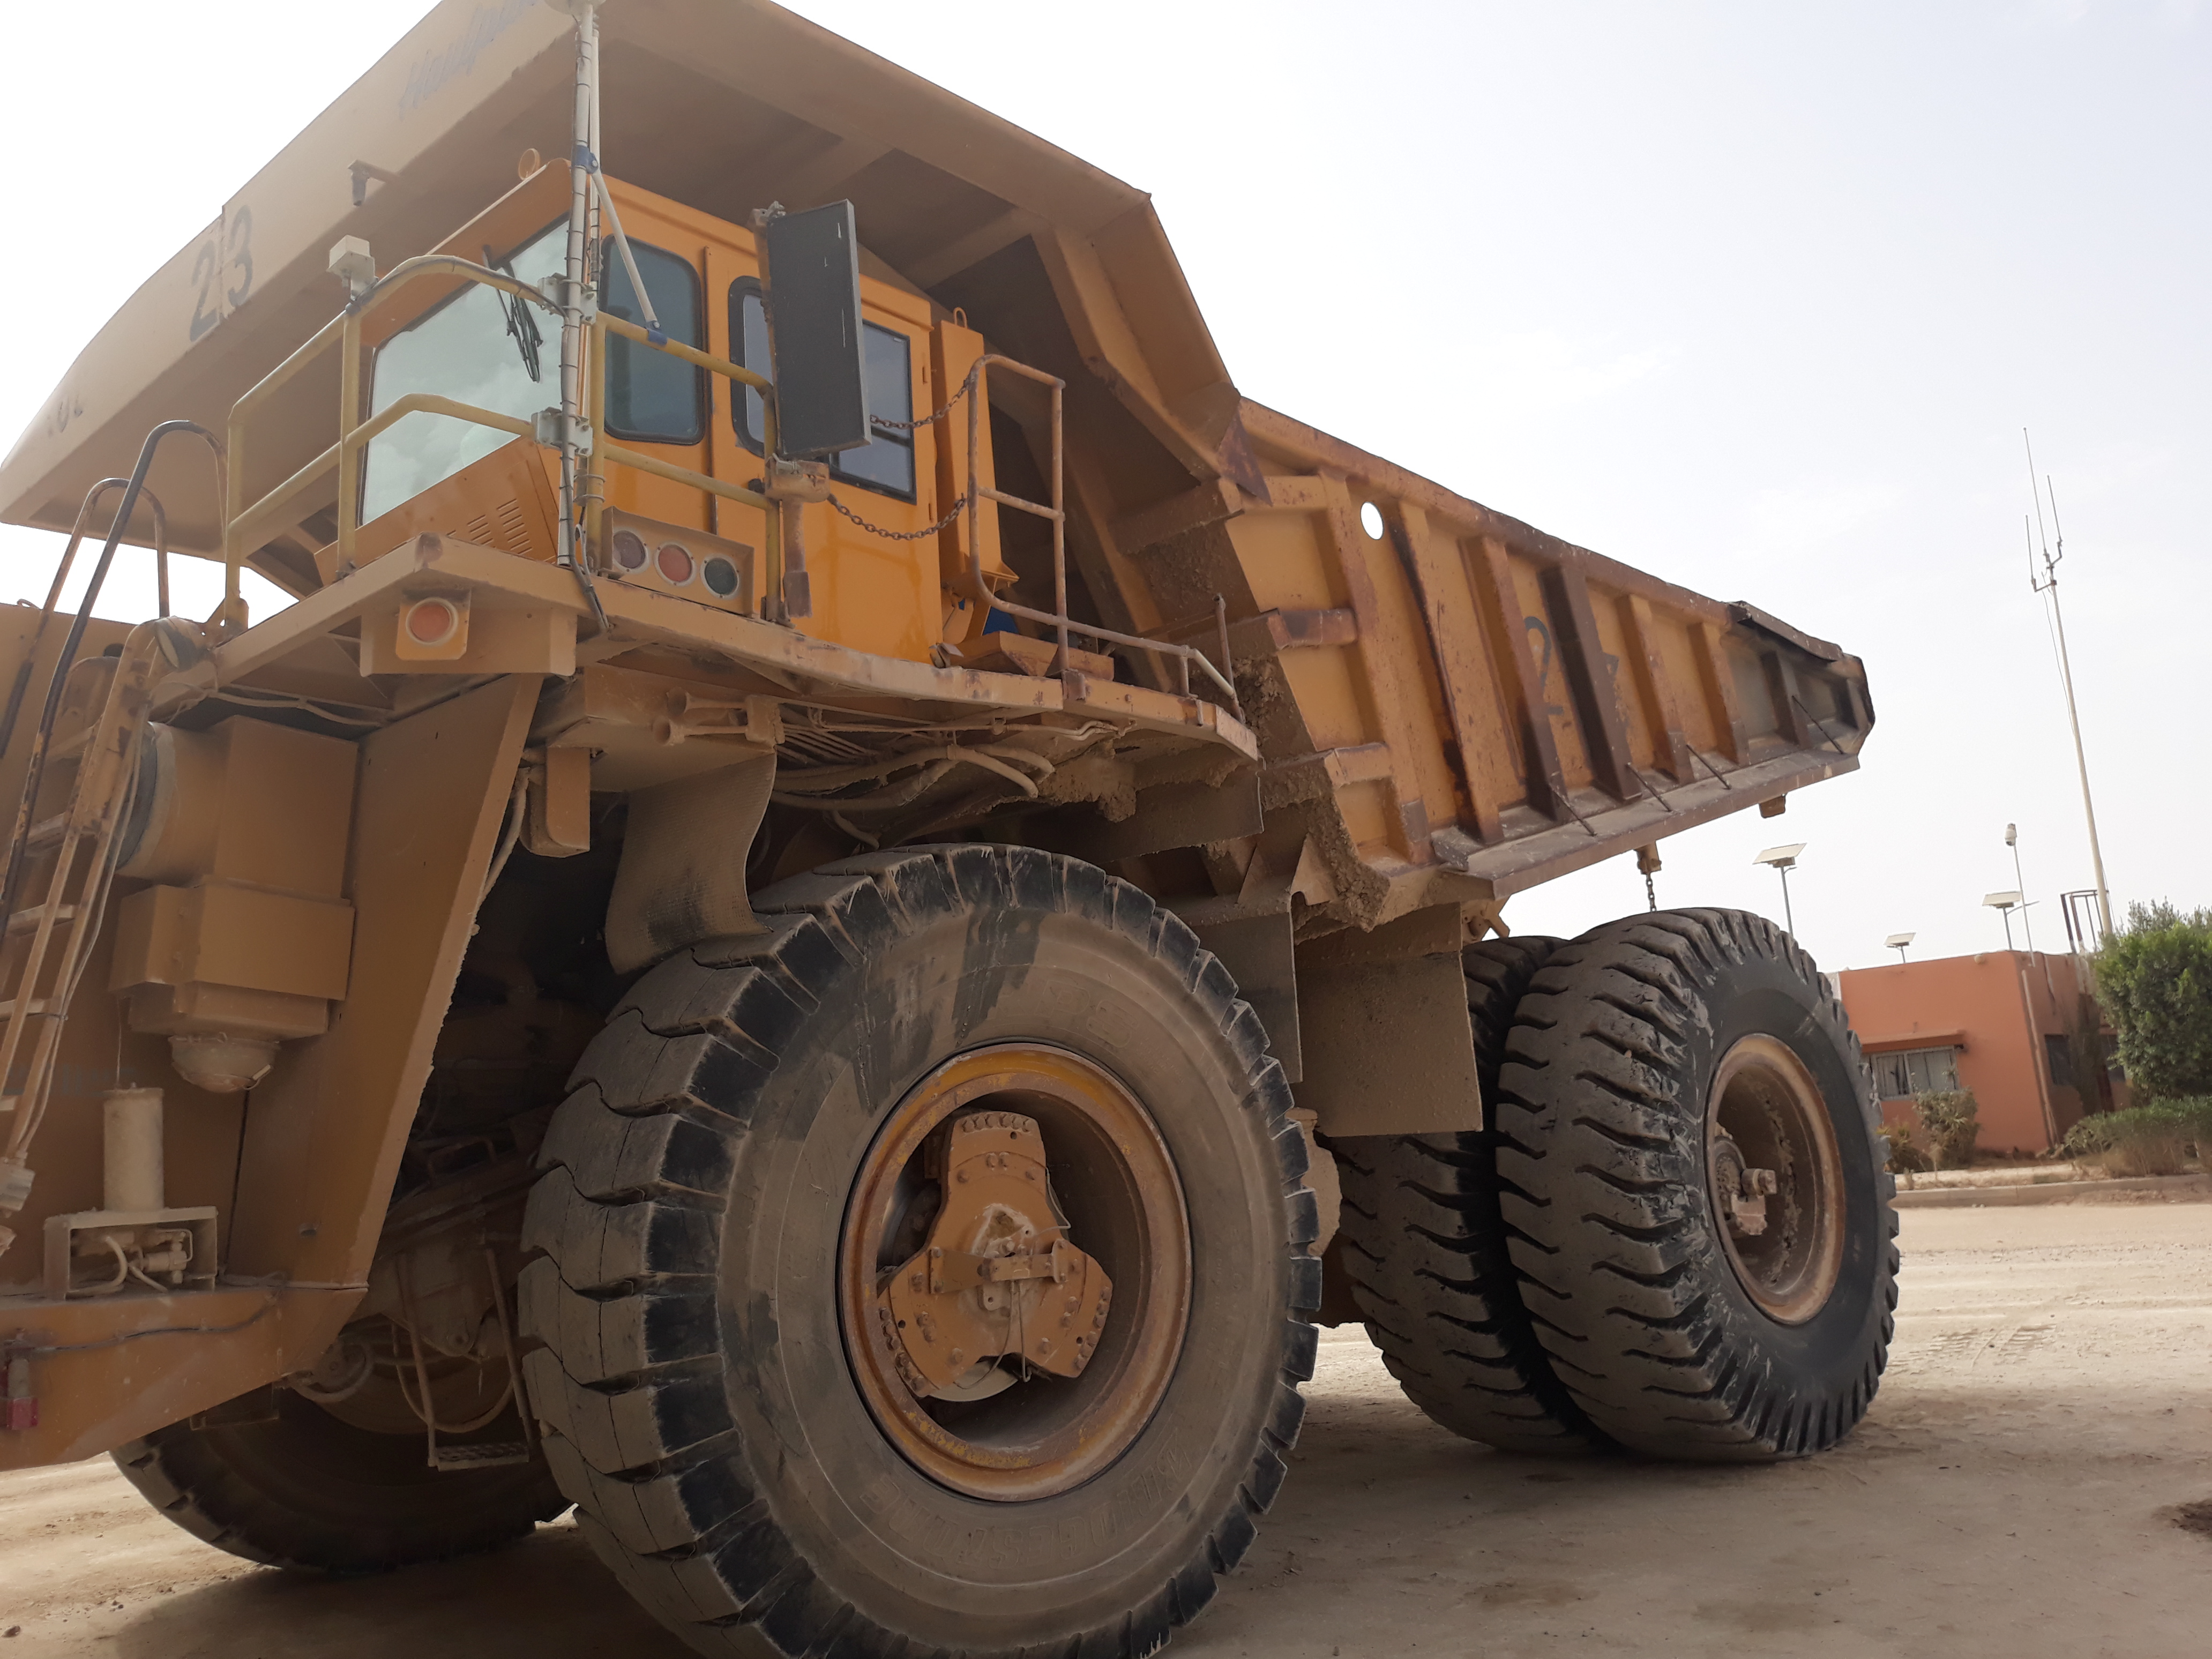camion: (0, 2, 1905, 1656)
